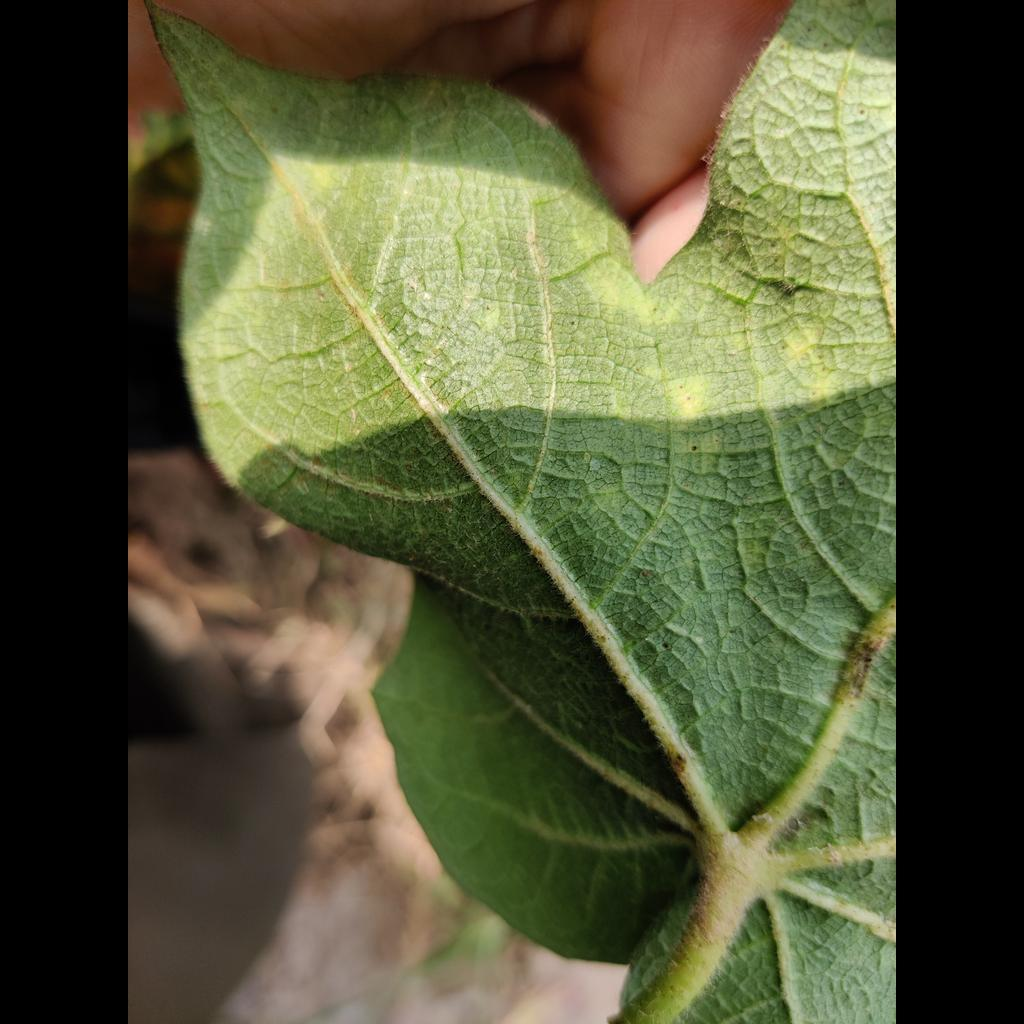nymph: (591, 458, 599, 468), (584, 452, 591, 461)
